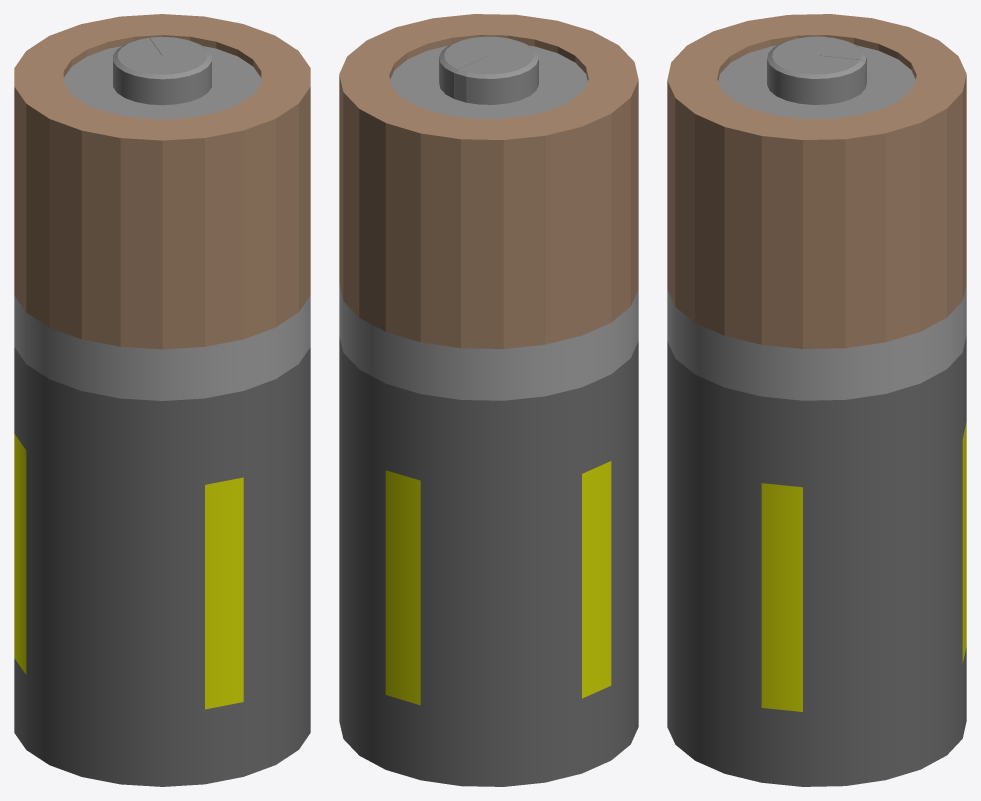
Rendered from Medium Large Battery.fbx.
3 views of the same model, side by side, from view 1: azimuth 30°, elevation 25°; view 2: azimuth 150°, elevation 25°; view 3: azimuth 270°, elevation 25° (orthographic).
Parts seen in each view (by area): view 1: Battery1; view 2: Battery1; view 3: Battery1.
Boxes of the visible parts, x1,y1,x2,y2 form: Battery1: [14, 14, 310, 786]; Battery1: [339, 14, 638, 786]; Battery1: [667, 14, 966, 786].
Size of the model in its own units: 2.17 by 5.44 by 2.17.
